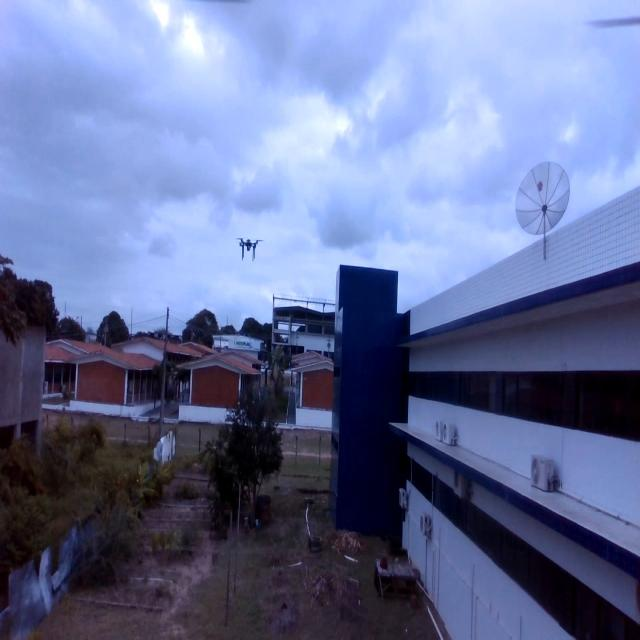-uav-: (232, 228, 266, 268)
